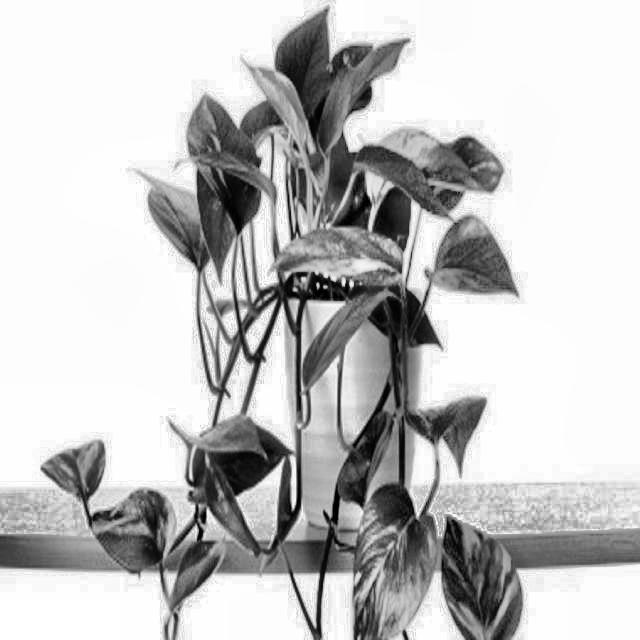plants: (41, 52, 544, 639)
